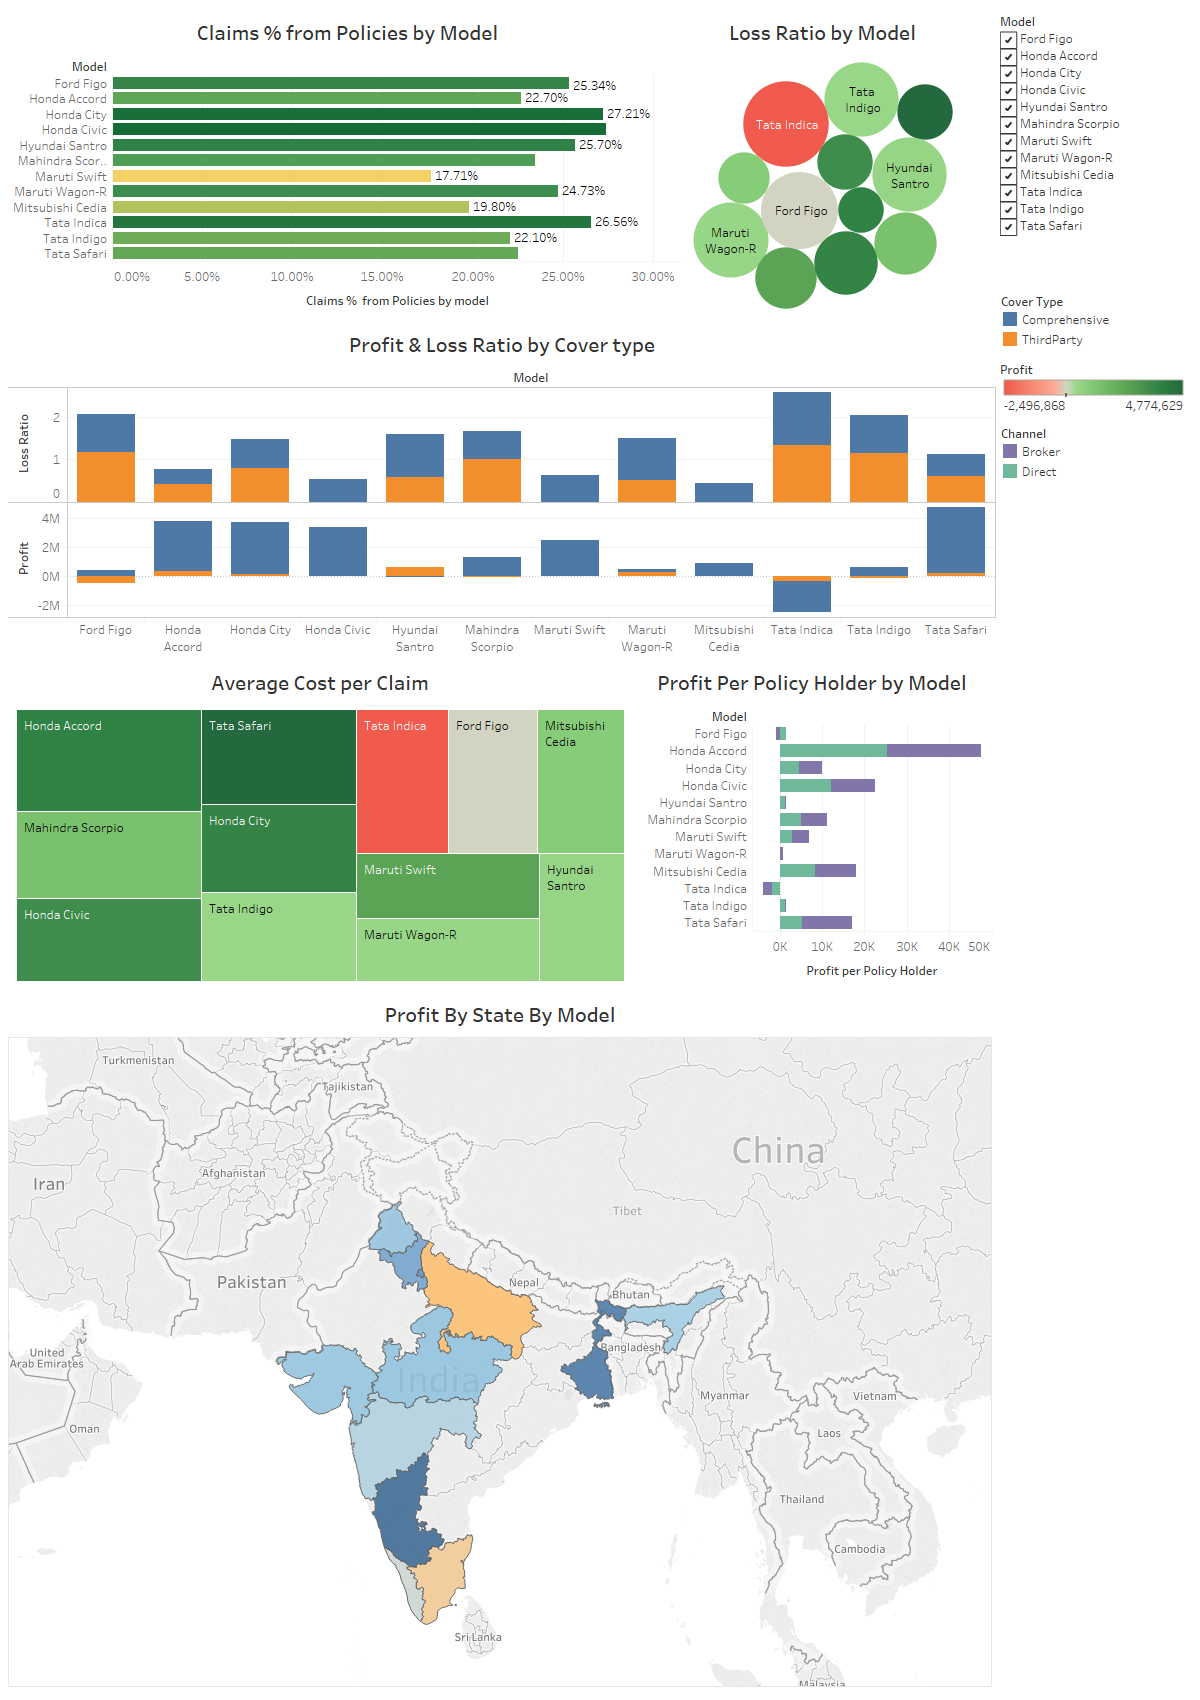

This screenshot's page, from the dashboard's own definition file:
{"tool":"tableau","page":{"name":"Demo Dashboard","canvas":[1200,1700],"ordinal":0},"visuals":[{"type":"worksheet","title":"Claims %  from Policies by model","mark":"Automatic","rows":["Mfr-Model"],"cols":["Calculation_269371593327898624"],"box":[8,8,684,312]},{"type":"worksheet","title":"Loss Ratio by Model","mark":"Circle","box":[692,8,304,312]},{"type":"filter","title":"Loss Ratio by Model","param":"[federated.1v7zt8a0rz6yt71gkir7f1sekjwg].[none:Mfr-Model:nk]","box":[996,8,196,279]},{"type":"legend","title":"Profit & Loss Ratio % by Cover Type","param":"[federated.1v7zt8a0rz6yt71gkir7f1sekjwg].[none:Cover Type:nk]","box":[996,287,196,66]},{"type":"worksheet","title":"Profit & Loss Ratio % by Cover Type","mark":"Automatic","rows":["Calculation_576179317678800897","Calculation_576179317686796292"],"cols":["Mfr-Model"],"box":[8,320,988,342]},{"type":"legend","title":"Loss Ratio by Model","param":"[federated.1v7zt8a0rz6yt71gkir7f1sekjwg].[usr:Calculation_576179317686796292:qk]","box":[996,353,196,65]},{"type":"legend","title":"Profit per policy holder by model","param":"[federated.1v7zt8a0rz6yt71gkir7f1sekjwg].[none:Channel:nk]","box":[996,418,196,66]},{"type":"worksheet","title":"Average cost per claim","mark":"Automatic","box":[8,662,624,328]},{"type":"worksheet","title":"Profit per policy holder by model","mark":"Automatic","rows":["Mfr-Model"],"cols":["Calculation_576179317674913792"],"box":[632,662,364,328]},{"type":"worksheet","title":"Profit by State by model","mark":"Automatic","box":[8,990,988,702]}]}

Visuals, with their boxes in screenshot pixels (x1, y1, x2, y2), scaled from the page's 1200x1700 canvas onto the 1200x1700 screenshot:
"Claims %  from Policies by model" worksheet: {"left": 8, "top": 8, "right": 692, "bottom": 320}
"Loss Ratio by Model" worksheet (Circle marks): {"left": 692, "top": 8, "right": 996, "bottom": 320}
"Loss Ratio by Model" filter: {"left": 996, "top": 8, "right": 1192, "bottom": 287}
"Profit & Loss Ratio % by Cover Type" legend: {"left": 996, "top": 287, "right": 1192, "bottom": 353}
"Profit & Loss Ratio % by Cover Type" worksheet: {"left": 8, "top": 320, "right": 996, "bottom": 662}
"Loss Ratio by Model" legend: {"left": 996, "top": 353, "right": 1192, "bottom": 418}
"Profit per policy holder by model" legend: {"left": 996, "top": 418, "right": 1192, "bottom": 484}
"Average cost per claim" worksheet: {"left": 8, "top": 662, "right": 632, "bottom": 990}
"Profit per policy holder by model" worksheet: {"left": 632, "top": 662, "right": 996, "bottom": 990}
"Profit by State by model" worksheet: {"left": 8, "top": 990, "right": 996, "bottom": 1692}
